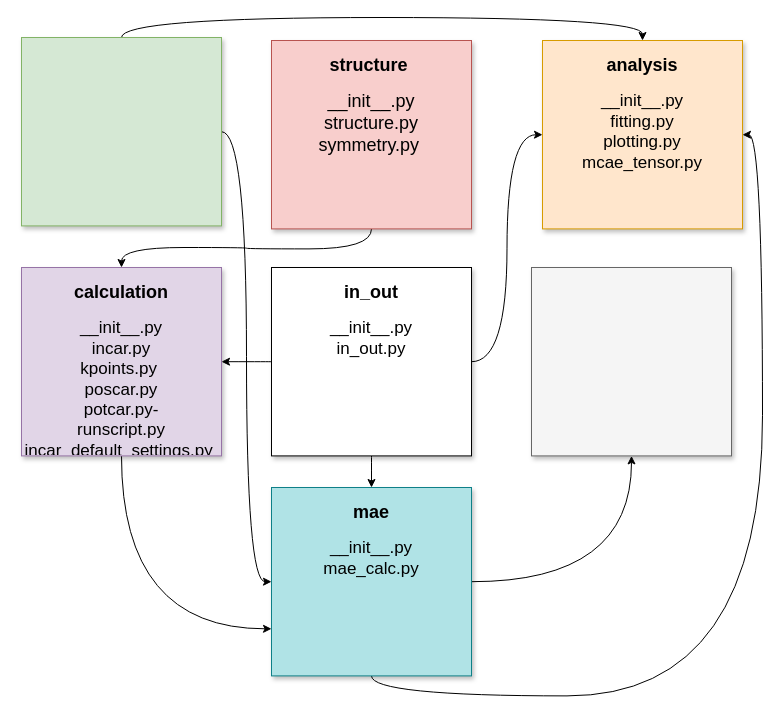
The diagram is 780 pixels wide and 714 high, and some of its shapes have lost their labels. Here are the shapes that lost their labels. From the top down, the centre of each, then its label:
the point at 122,132: maths __init__.py direction_cosine.py spherical_harmonic.py spin_axes.py
the point at 632,362: workflow __init__.py strain_workflow.py spin_multiplet.py
